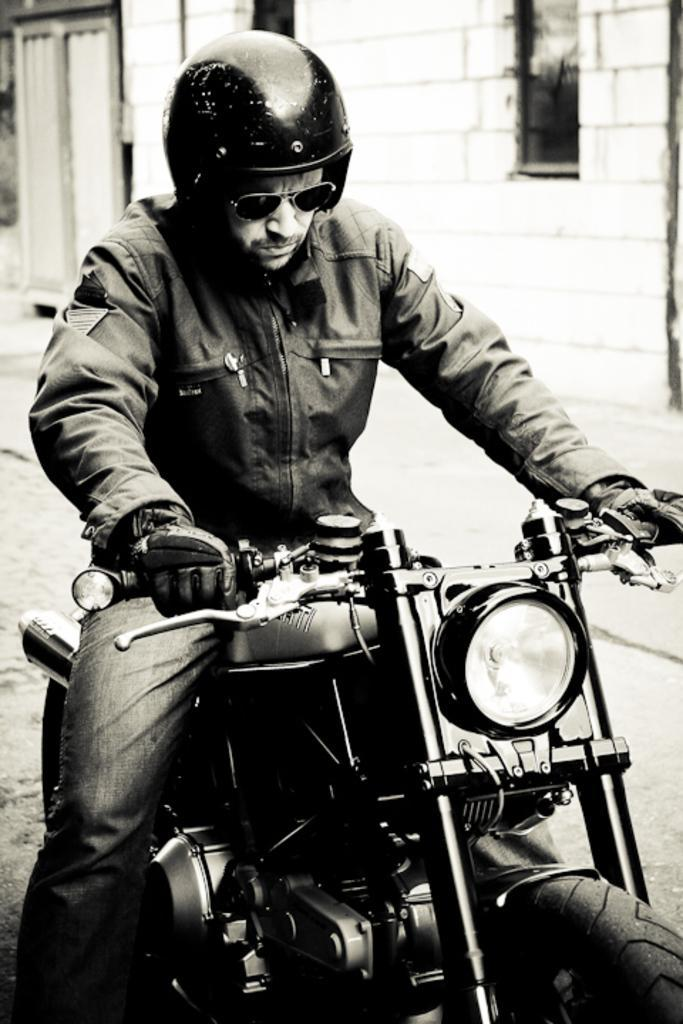helmet: (161, 28, 355, 289)
